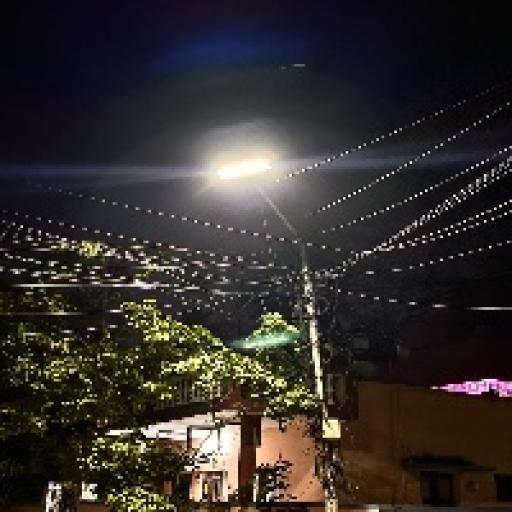Working: (208, 148, 290, 195)
